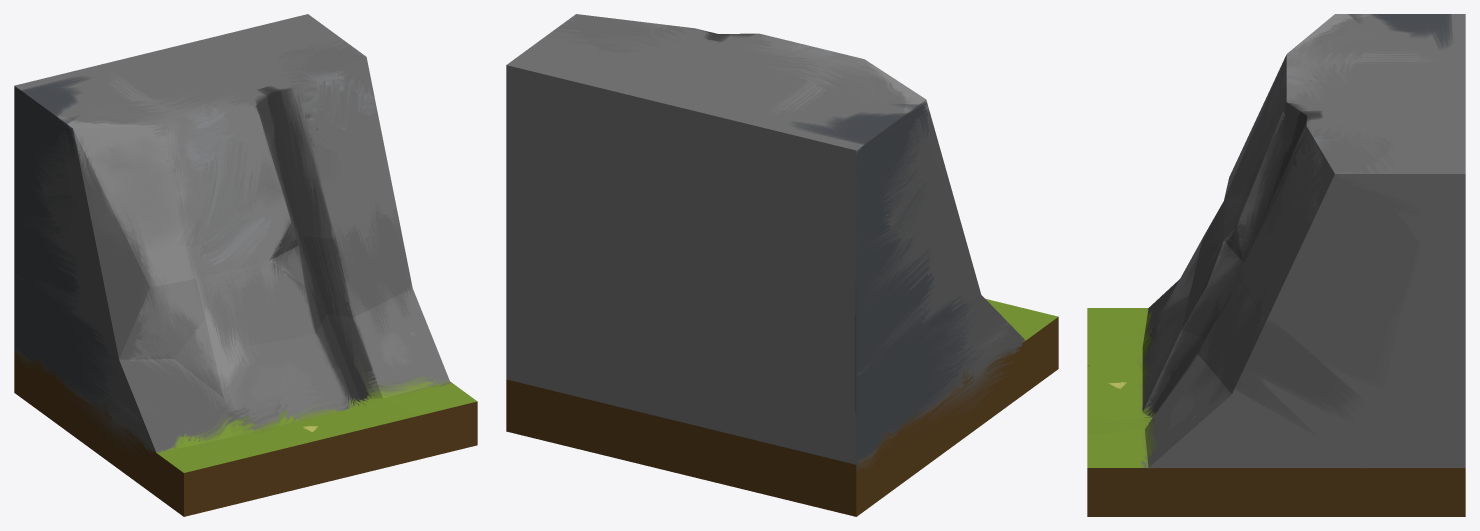
The model's file is mountain.fbx.
3 views of the same model, side by side, from view 1: azimuth 30°, elevation 25°; view 2: azimuth 150°, elevation 25°; view 3: azimuth 270°, elevation 25° (orthographic). The views are drawn at different scales.
Visible parts, largest first — view 1: Mountain; view 2: Mountain; view 3: Mountain.
Boxes of the visible parts, bbox=[...] form: Mountain: bbox=[14, 14, 477, 516]; Mountain: bbox=[506, 14, 1058, 516]; Mountain: bbox=[1087, 14, 1465, 516].
Size of the model in its own units: 200 by 200 by 200.
Materials: 1 (1 with a texture image).
